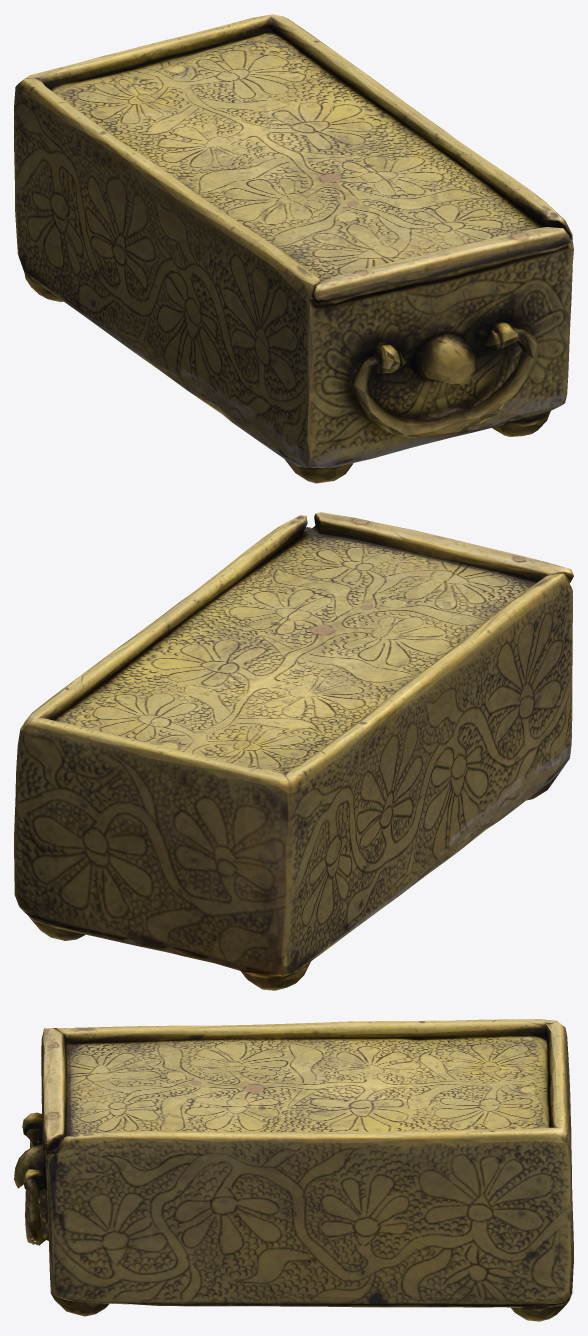
File: SM_Tobacco_Case.fbx
The picture shows the model from 3 angles, top to bottom: view 1: azimuth 30°, elevation 25°; view 2: azimuth 150°, elevation 25°; view 3: azimuth 270°, elevation 25°; orthographic projection. The views are drawn at different scales.
Visible parts, largest first — view 1: KCDF_2022_prop_Tobacco_Case_Mesh; view 2: KCDF_2022_prop_Tobacco_Case_Mesh; view 3: KCDF_2022_prop_Tobacco_Case_Mesh.
Boxes of the visible parts, x1,y1,x2,y2 form: KCDF_2022_prop_Tobacco_Case_Mesh: [14, 14, 573, 483]; KCDF_2022_prop_Tobacco_Case_Mesh: [14, 512, 573, 990]; KCDF_2022_prop_Tobacco_Case_Mesh: [14, 1019, 573, 1321].
Size of the model in its own units: 11.12 by 8.46 by 21.78.
1 material, 1 textured.
